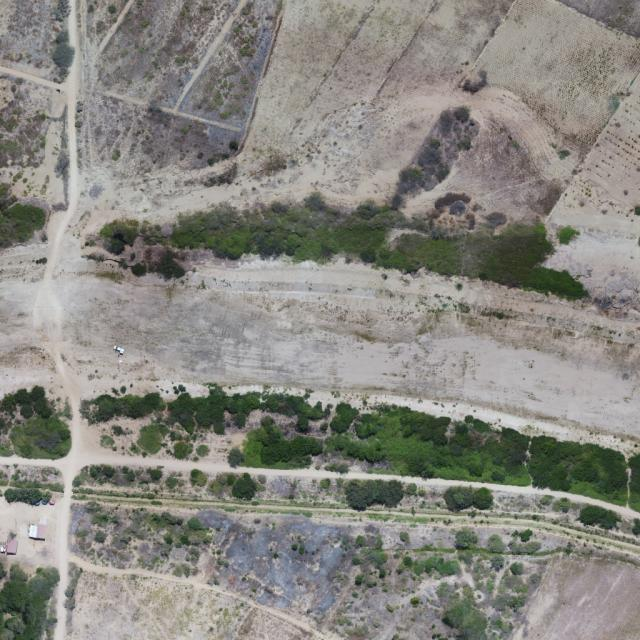greenland: (85, 180, 592, 300), (315, 396, 635, 505), (89, 386, 311, 434), (0, 385, 71, 459), (99, 416, 212, 462), (227, 415, 323, 469), (230, 414, 322, 469), (0, 564, 60, 639), (0, 184, 45, 247), (4, 487, 53, 504)
unmetalled_road: (45, 233, 640, 451), (30, 0, 86, 640)
